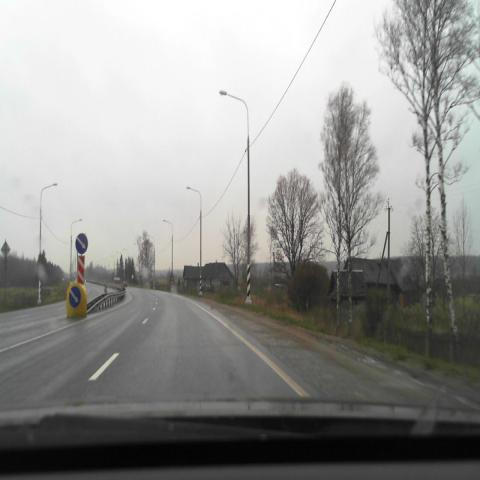4_2_1: (75, 233, 88, 254)
